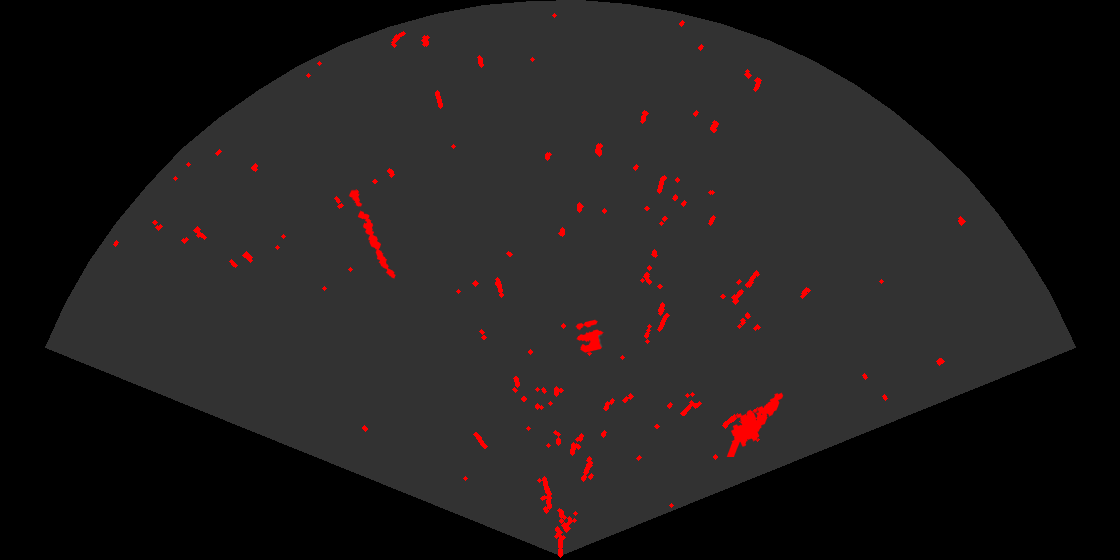ball: (574, 318, 605, 354)
chain: (347, 187, 397, 280)
frogman: (725, 391, 785, 457)
